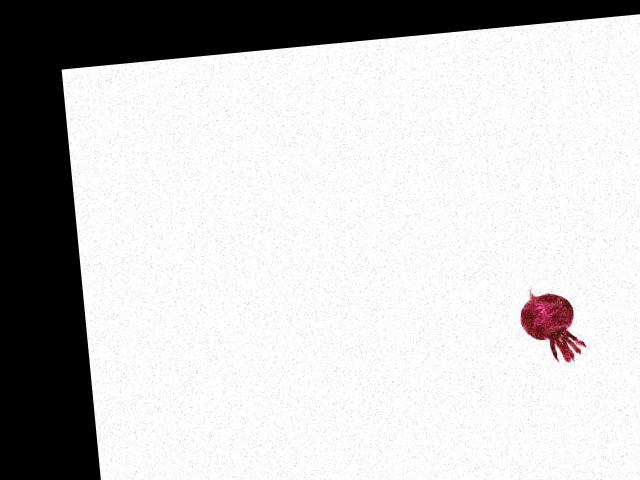beet: (517, 280, 587, 366)
